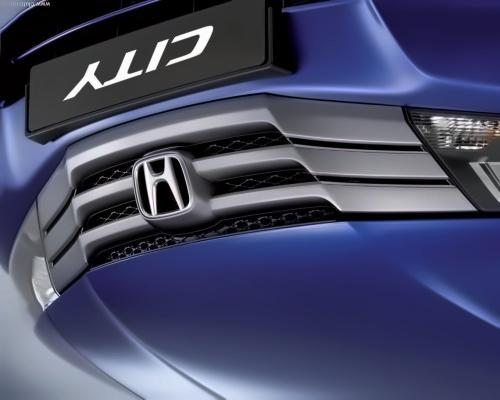Car hood: (27, 215, 500, 400)
Front bumper: (0, 0, 500, 213)
Headlight - -L-: (0, 192, 67, 329)
Headlight - -R-: (393, 96, 500, 222)
